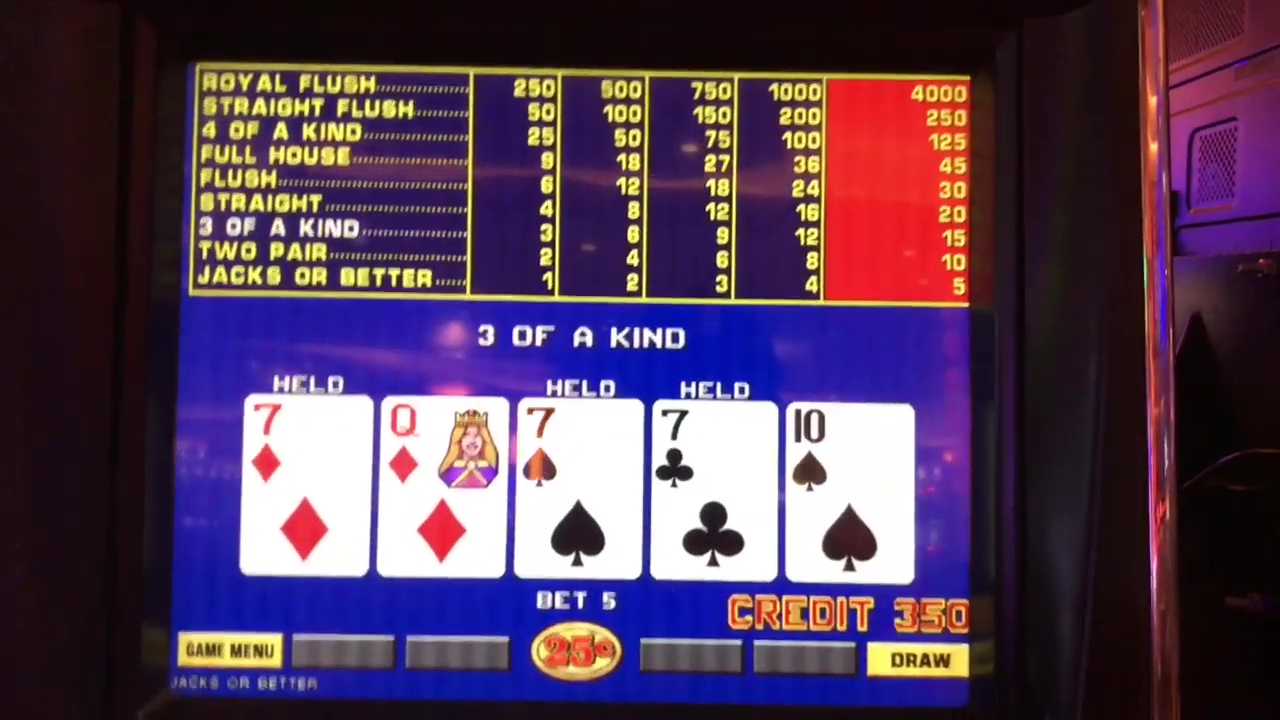C7: (654, 398, 774, 488)
D7: (247, 396, 369, 484)
DQ: (384, 398, 504, 488)
S7: (521, 402, 640, 490)
ST: (790, 402, 907, 491)
